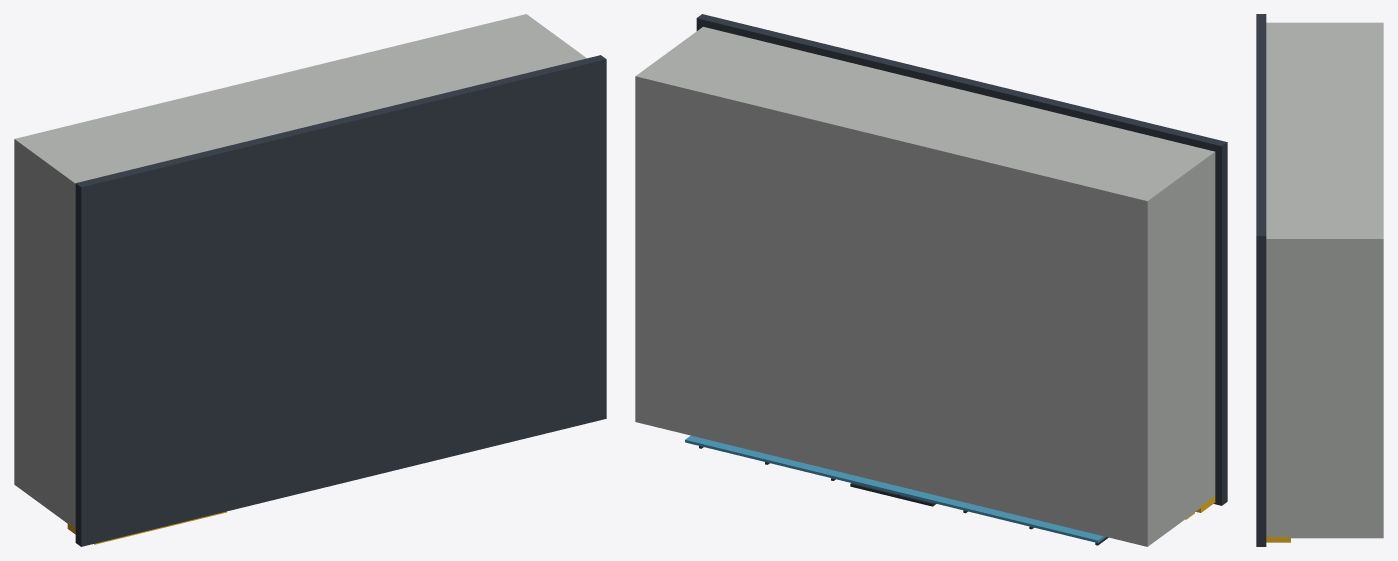
Rendered from jumbo_werk.obj.
The picture shows the model from 3 angles, left to right: view 1: azimuth 30°, elevation 25°; view 2: azimuth 150°, elevation 25°; view 3: azimuth 270°, elevation 25°; orthographic projection. The views are drawn at different scales.
Parts seen in each view (by area): view 1: jumbo_werk; view 2: jumbo_werk; view 3: jumbo_werk.
Boxes of the visible parts, x1=… form: jumbo_werk: x1=14, y1=14, x2=606, y2=546; jumbo_werk: x1=635, y1=14, x2=1227, y2=546; jumbo_werk: x1=1256, y1=14, x2=1383, y2=546.
Bounding box in the file's own units: 31.8 × 21.4 × 7.7.
